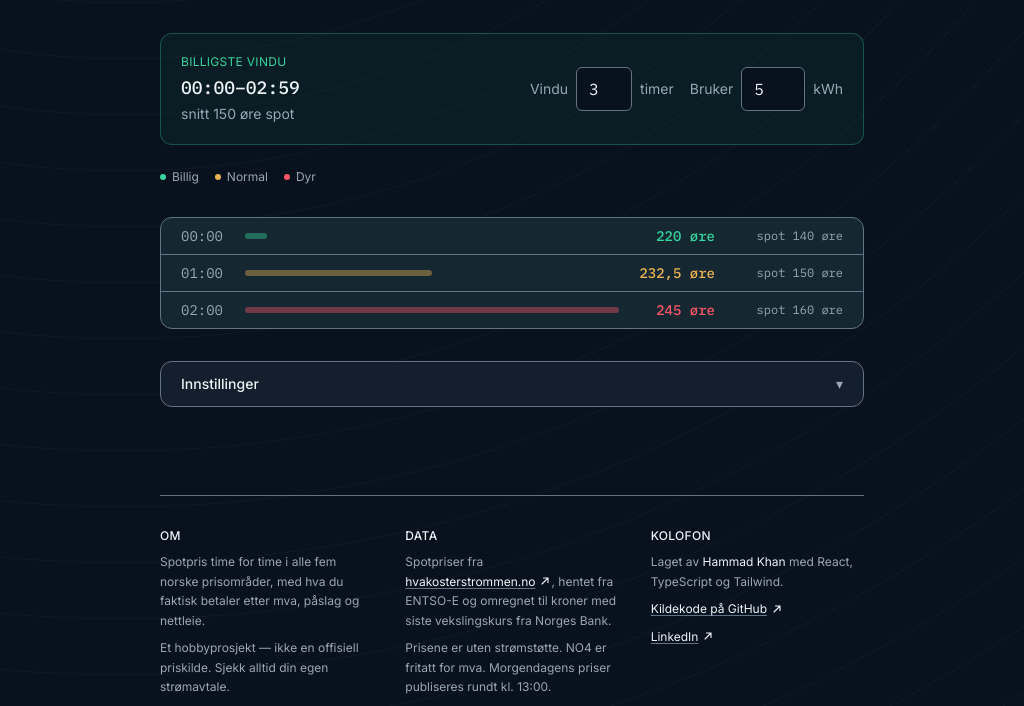
Test: App › recalculates the effective price when markup changes
(page scrolled)
Expected: the text "spot 140 øre" is shown, [757,228,843,243]
Expected: the text "220 øre" is shown, [656,227,715,245]
Click the heading "Innstillinger ▾".
click(220, 384)  # box [181,375,843,392]
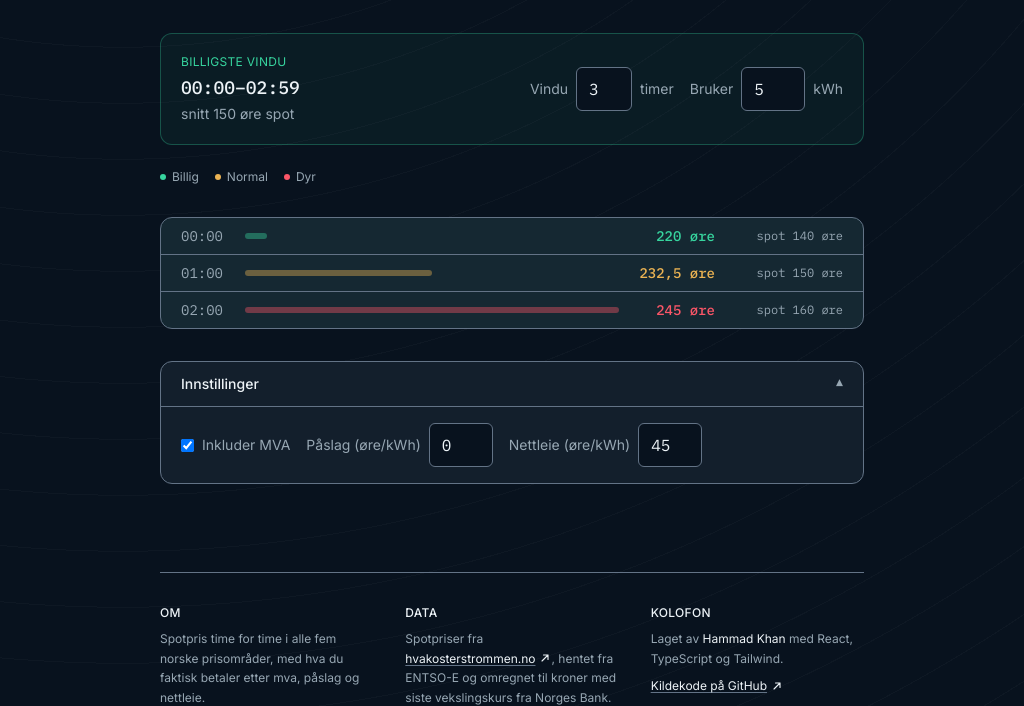
Replace the text in the number field labelled "Påslag (øre/kWh)" with "10" at (461, 445), box [429,423,493,467]
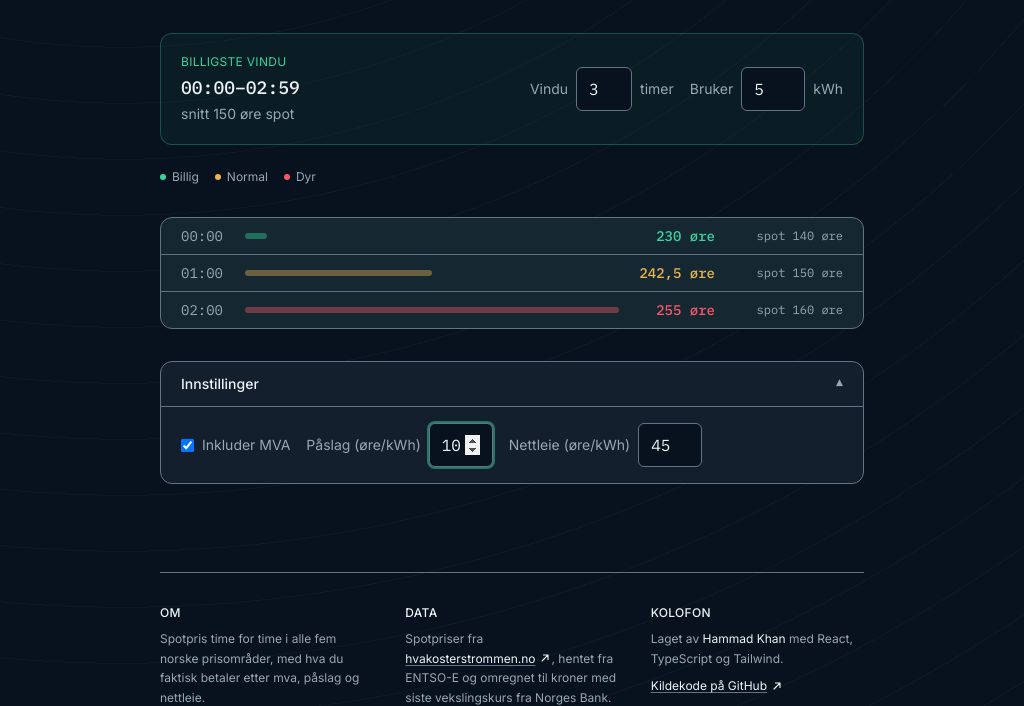
Expected: the text "230 øre" is shown, [656,227,715,245]
